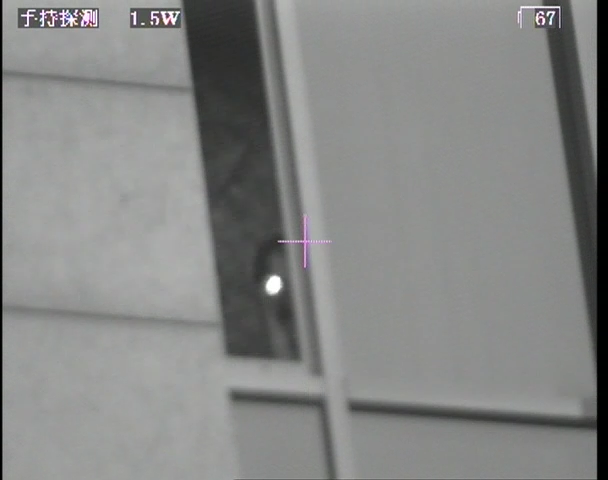my: (265, 273, 281, 294)
